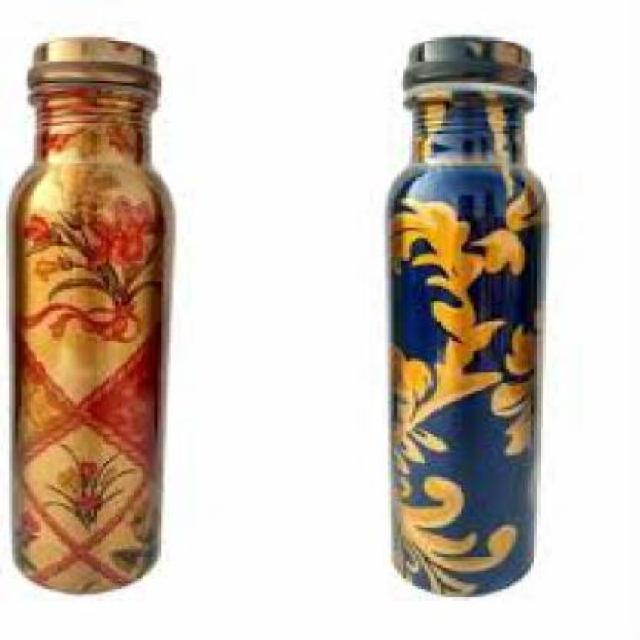Drinking: (0, 26, 203, 611), (360, 21, 552, 618)
